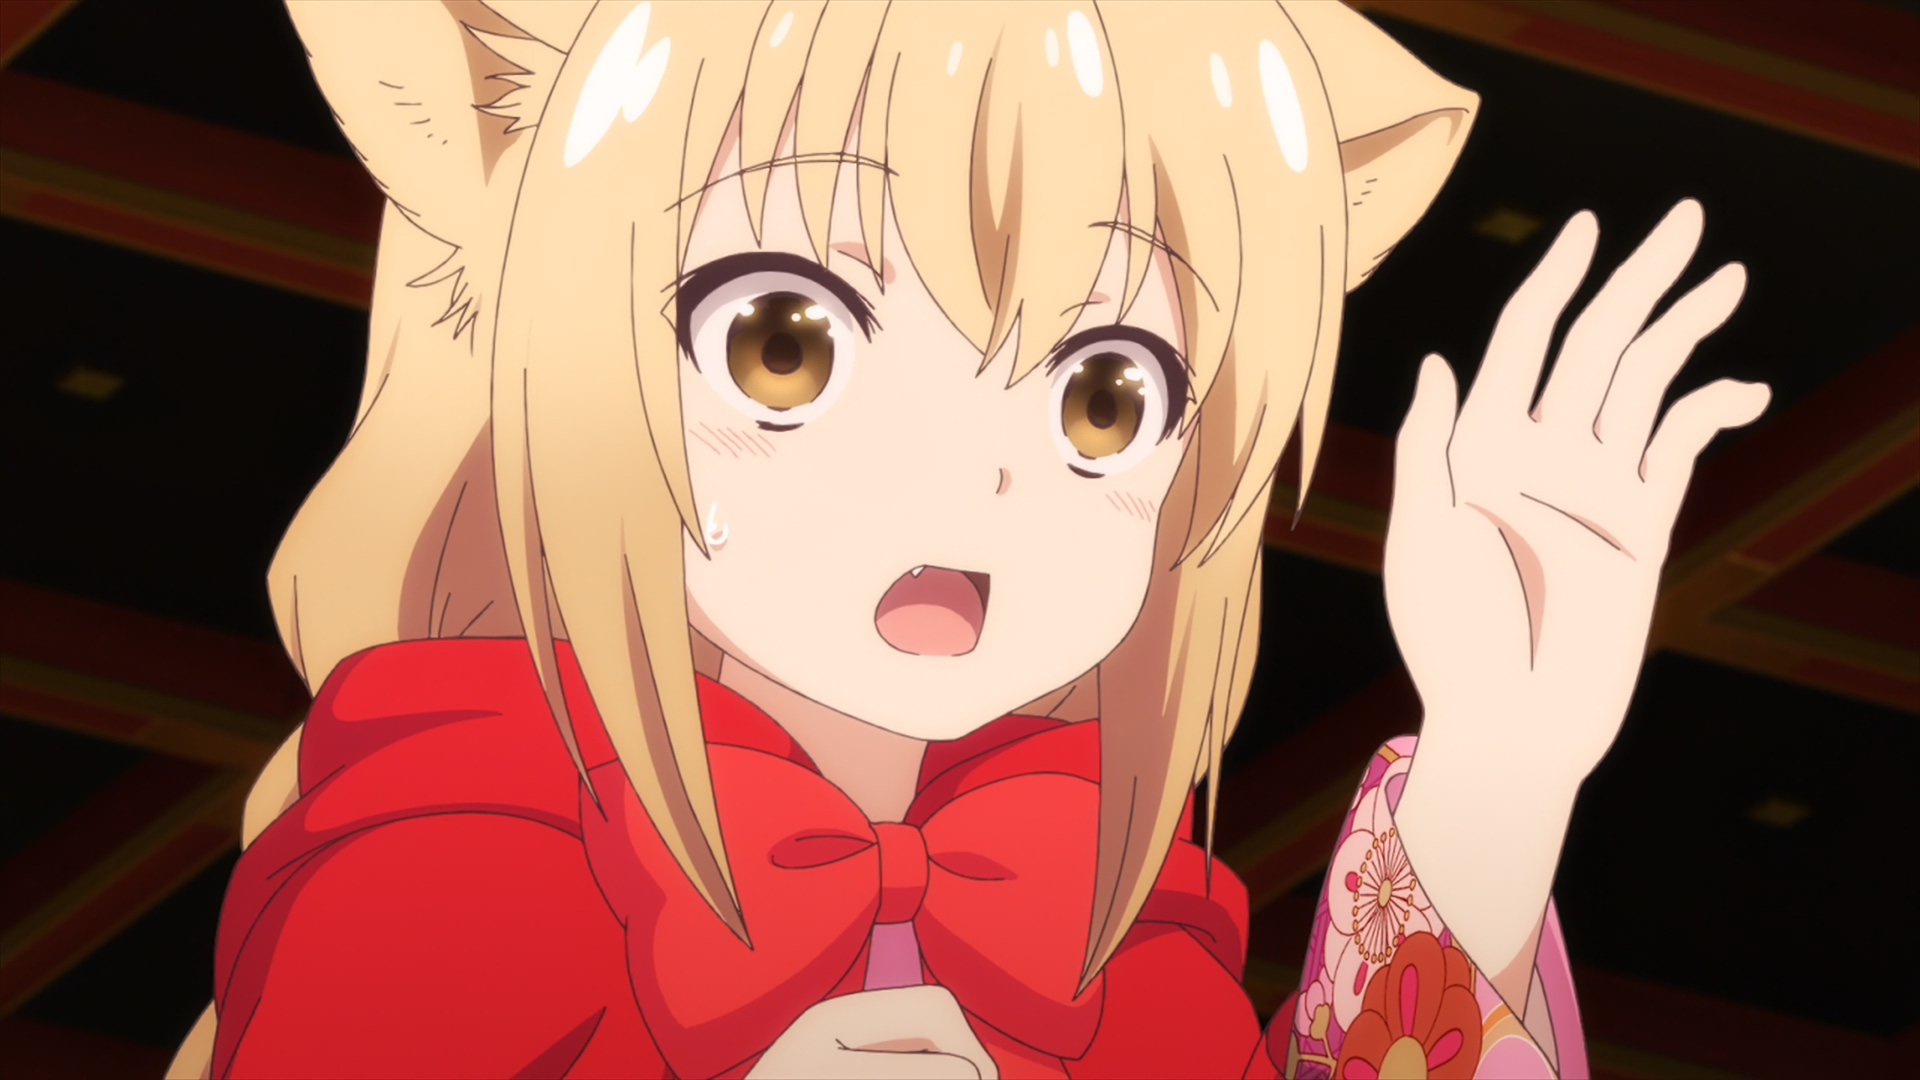柚: (167, 1, 1772, 1080)
